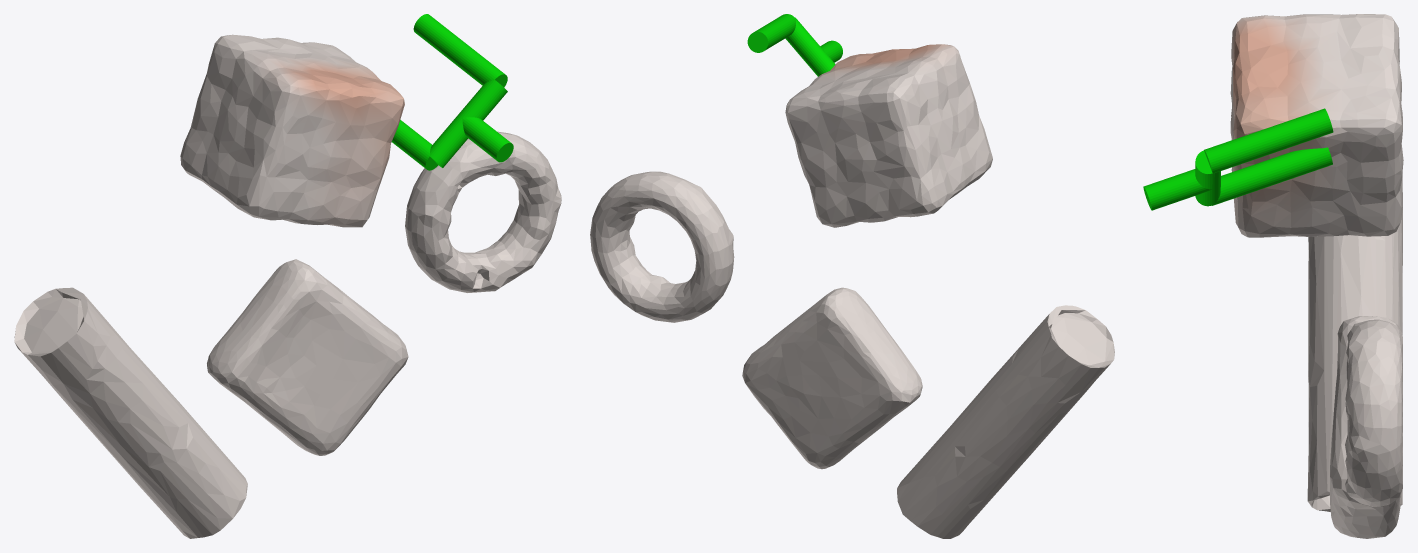
File: round_000_trial_002.obj
3 views of the same model, side by side, from view 1: azimuth 30°, elevation 25°; view 2: azimuth 150°, elevation 25°; view 3: azimuth 270°, elevation 25° (orthographic). The views are drawn at different scales.
Visible parts, largest first — view 1: geometry_0, geometry_1; view 2: geometry_0, geometry_1; view 3: geometry_0, geometry_1.
Part boxes in pixels (left/top/right/bottom): geometry_0: left=14, top=34, right=561, bottom=538; geometry_1: left=391, top=14, right=513, bottom=170; geometry_0: left=590, top=44, right=1114, bottom=538; geometry_1: left=747, top=14, right=842, bottom=76; geometry_0: left=1230, top=14, right=1403, bottom=538; geometry_1: left=1143, top=108, right=1333, bottom=210.
Size of the model in its own units: 0.2724 by 0.2284 by 0.1014.
